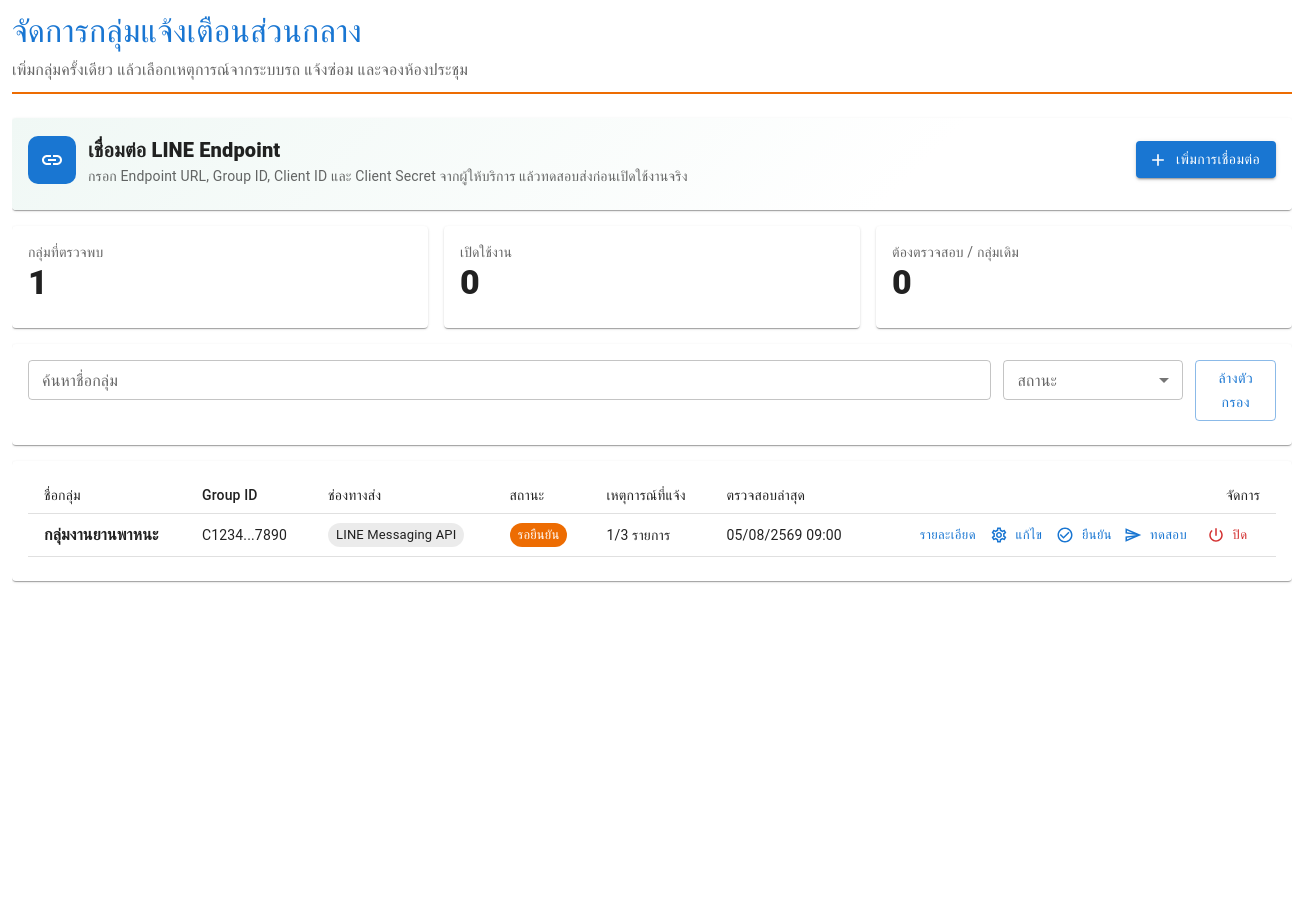
FleetLineGroupsPage › shows the daily driving summary event in Thai
Click the button "รายละเอียด". click: (948, 535)
box: [915,520,981,550]
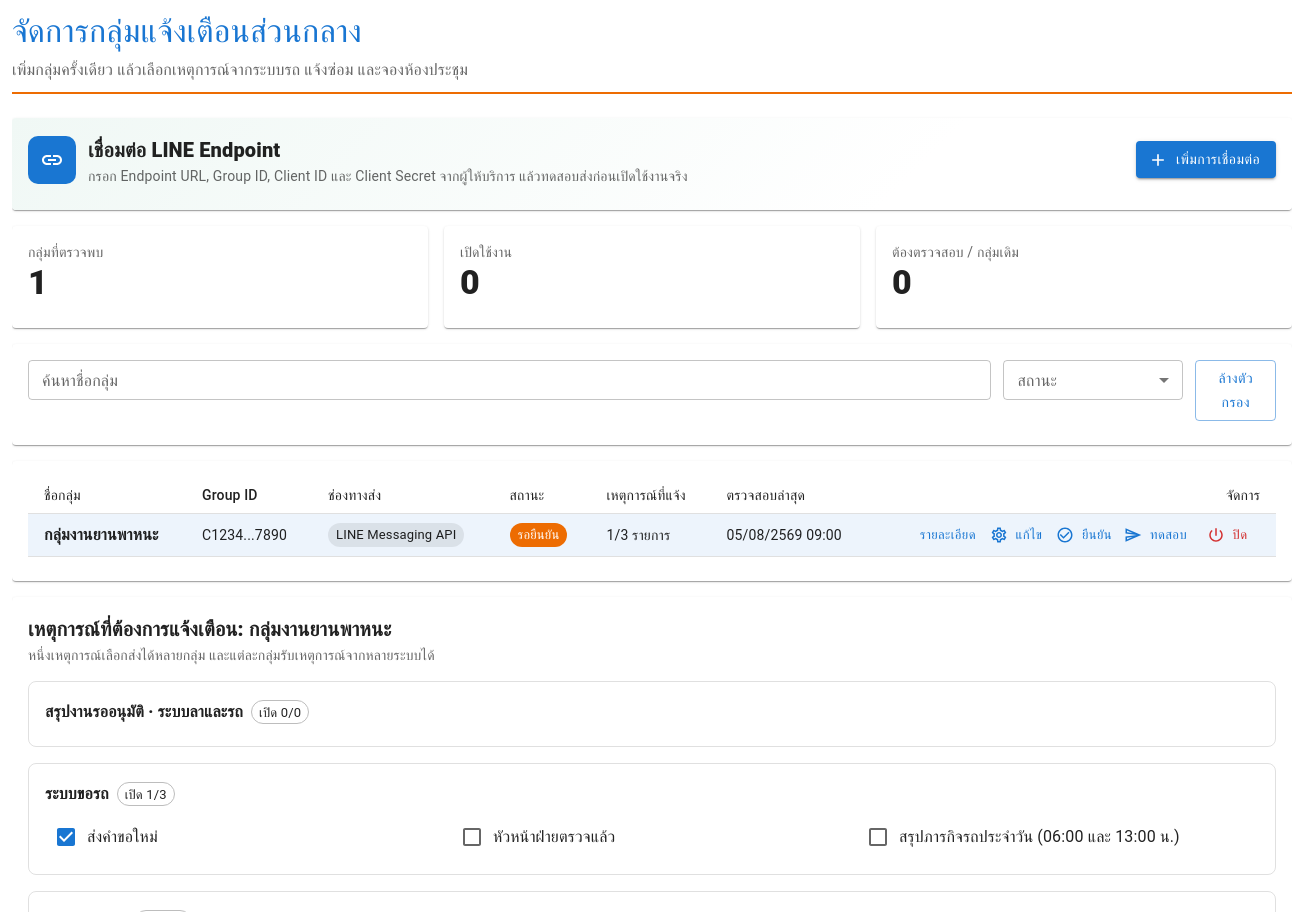
expect the checkbox labelled "สรุปภารกิจรถประจำวัน (06:00 และ 13:00 น.)" is enabled: met, box [866,825,1180,849]
